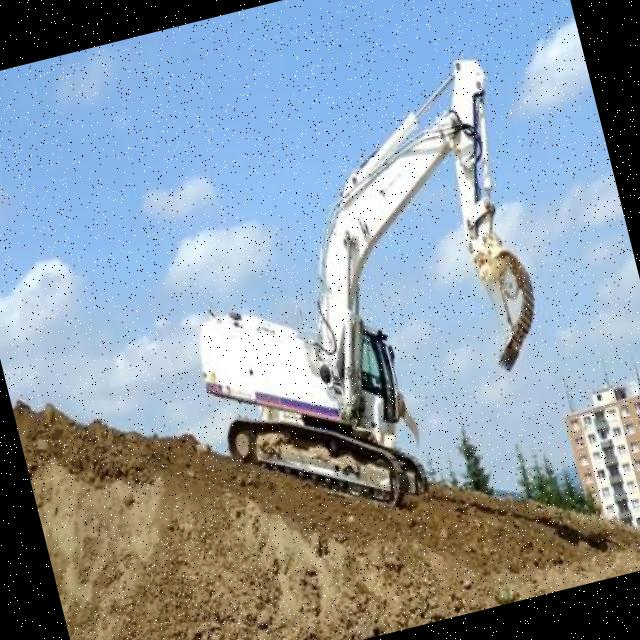Excavator: (121, 1, 586, 562)
